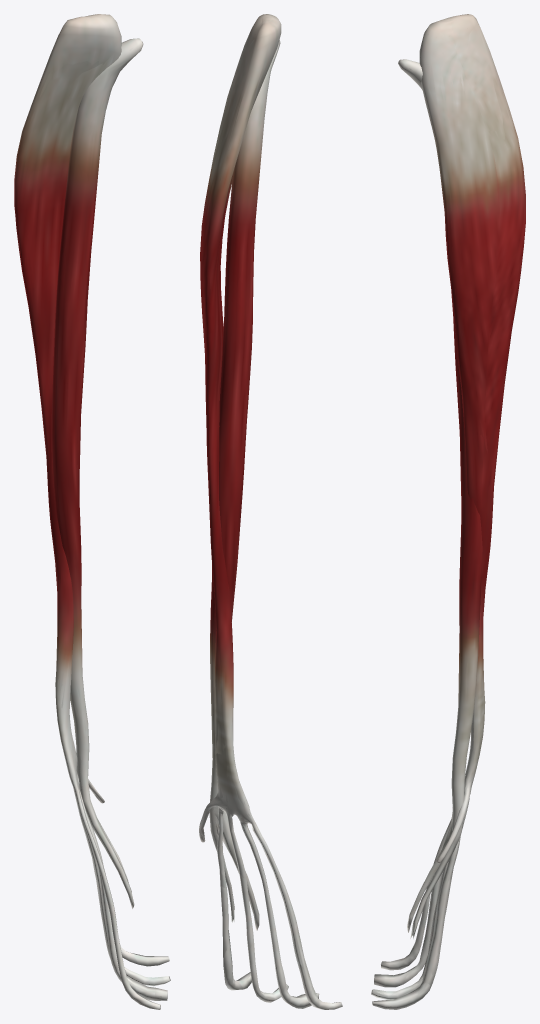
Rendered from R Superficial Digital Flexor.fbx.
The picture shows the model from 3 angles, left to right: view 1: azimuth 90°, elevation 25°; view 2: azimuth 150°, elevation 25°; view 3: azimuth 270°, elevation 25°; orthographic projection. The views are drawn at different scales.
Visible parts, largest first — view 1: R Superficial Digital Flexor, R Superficial Digital Flexor low, R Superficial Digital Flexor high; view 2: R Superficial Digital Flexor, R Superficial Digital Flexor low, R Superficial Digital Flexor high; view 3: R Superficial Digital Flexor, R Superficial Digital Flexor low, R Superficial Digital Flexor high.
Part boxes in pixels (x1,y1,x2,y2): R Superficial Digital Flexor: (14, 14, 170, 1009); R Superficial Digital Flexor low: (14, 14, 168, 1006); R Superficial Digital Flexor high: (16, 17, 169, 1006); R Superficial Digital Flexor: (199, 14, 342, 1009); R Superficial Digital Flexor low: (199, 16, 339, 1009); R Superficial Digital Flexor high: (200, 19, 337, 1006); R Superficial Digital Flexor: (371, 14, 525, 1009); R Superficial Digital Flexor low: (372, 14, 525, 1009); R Superficial Digital Flexor high: (372, 18, 524, 1006).
Bounding box in the file's own units: 1.61 × 13.82 × 2.
